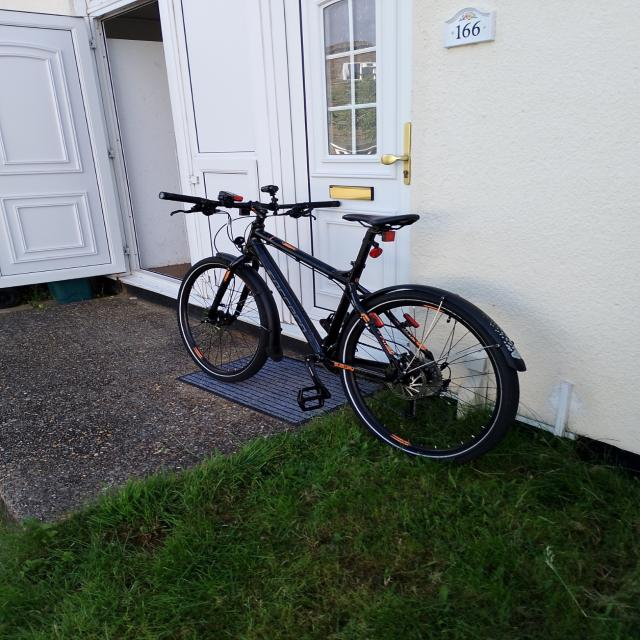bicycle: (158, 184, 527, 463)
